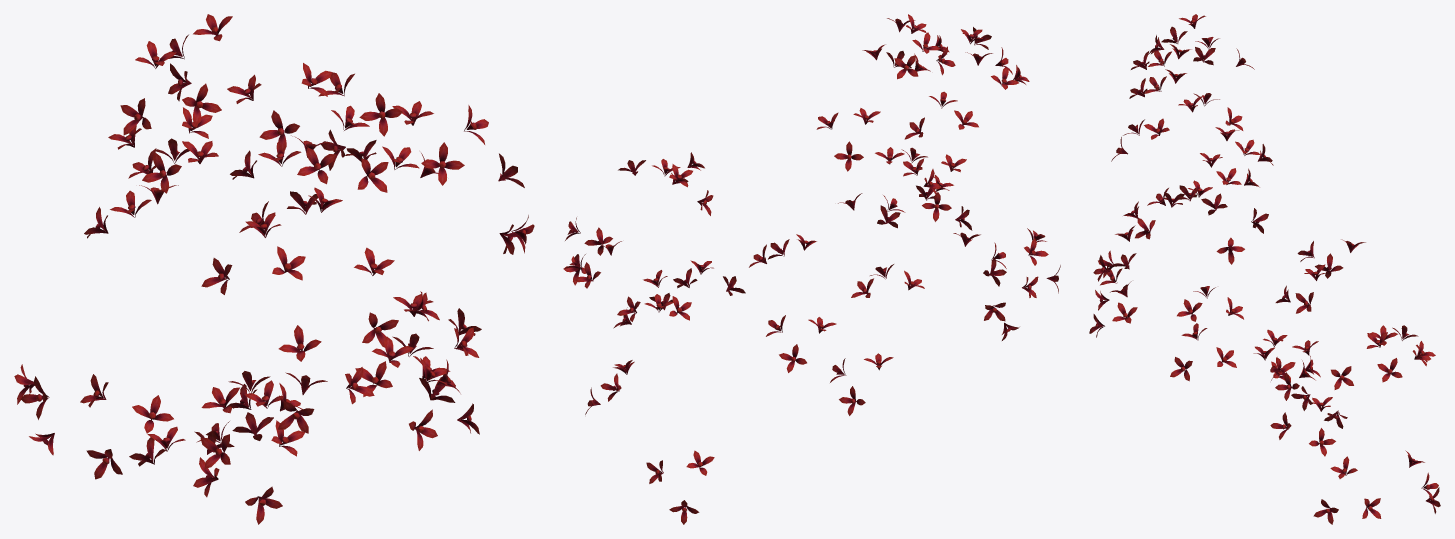
The model's file is flowers_tall_flowers.glb.
The picture shows the model from 3 angles, left to right: view 1: azimuth 30°, elevation 25°; view 2: azimuth 150°, elevation 25°; view 3: azimuth 270°, elevation 25°; orthographic projection. The views are drawn at different scales.
Visible parts, largest first — view 1: flowers; view 2: flowers; view 3: flowers.
Boxes of the visible parts, <box> form: flowers: <box>14,14,534,524</box>; flowers: <box>563,14,1060,524</box>; flowers: <box>1089,14,1440,524</box>.
Bounding box in the file's own units: 2.58 × 2.72 × 2.02.
1 material, 1 textured.
